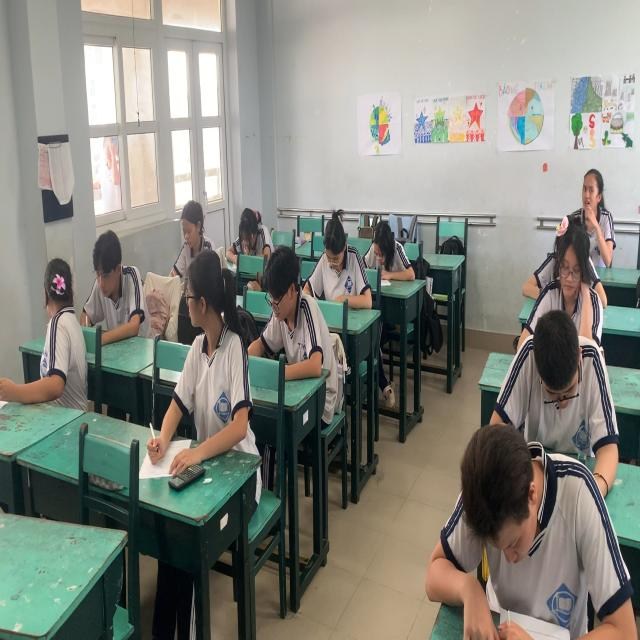cheating: (180, 257, 240, 443), (36, 261, 86, 381)
not_cheating: (452, 413, 562, 627), (261, 247, 325, 378), (518, 292, 580, 413), (82, 223, 134, 330), (320, 208, 356, 316), (166, 184, 212, 260), (550, 216, 592, 292), (370, 226, 403, 285), (576, 164, 605, 222), (239, 198, 263, 264)
